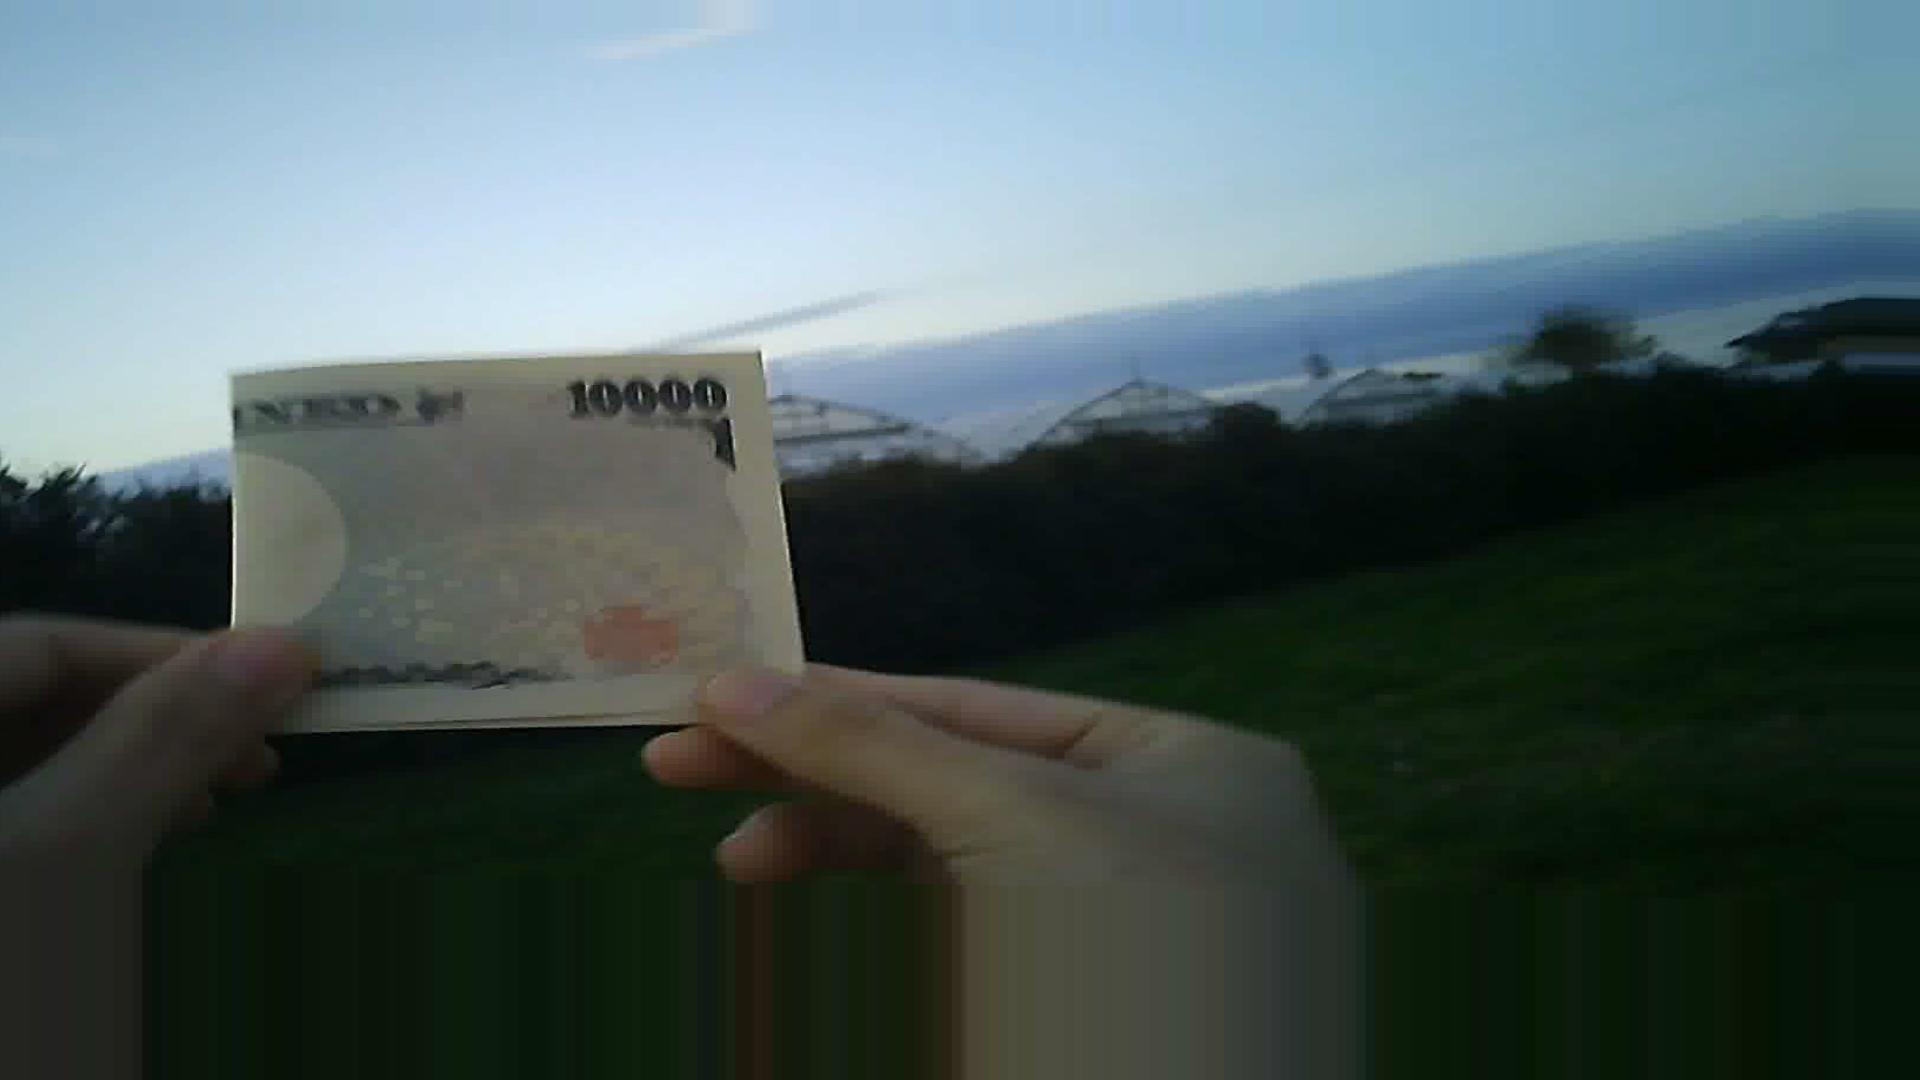10,000 Yen: (215, 336, 818, 736)
